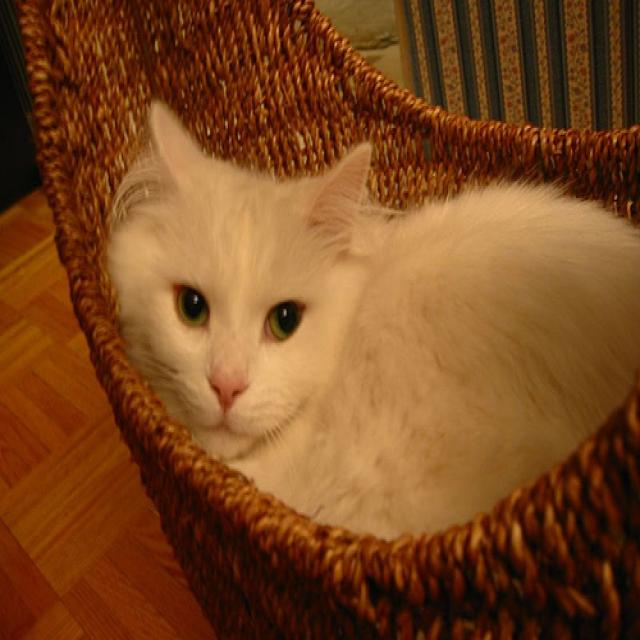left eye: (262, 296, 306, 342)
